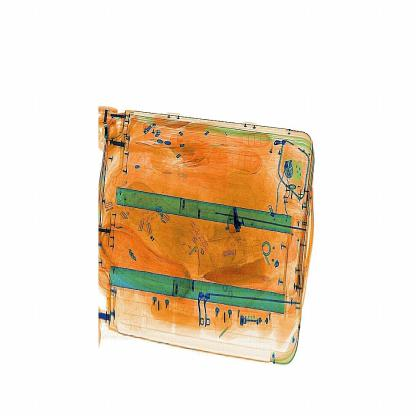pliers: (222, 206, 249, 241)
